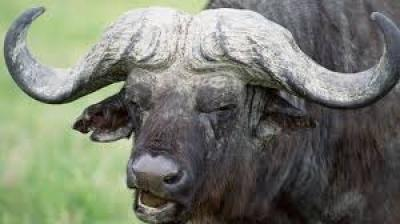buffalo: (2, 0, 400, 224)
